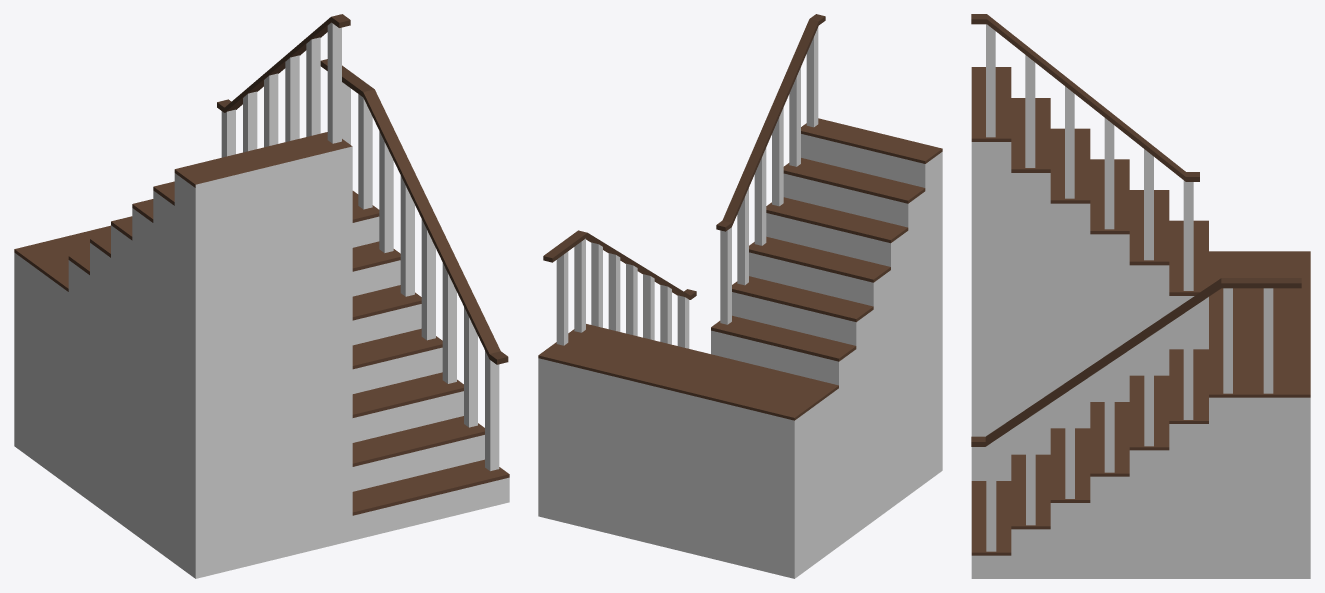
File: Stairs1_C2.fbx
3 views of the same model, side by side, from view 1: azimuth 30°, elevation 25°; view 2: azimuth 150°, elevation 25°; view 3: azimuth 270°, elevation 25° (orthographic). The views are drawn at different scales.
Visible parts, largest first — view 1: Stairs1_C2; view 2: Stairs1_C2; view 3: Stairs1_C2.
Boxes of the visible parts, box(x1,y1,x2,y2) form: Stairs1_C2: box(14, 14, 509, 578); Stairs1_C2: box(538, 14, 942, 578); Stairs1_C2: box(971, 14, 1310, 578).
Bounding box in the file's own units: 250 × 397 × 250.
